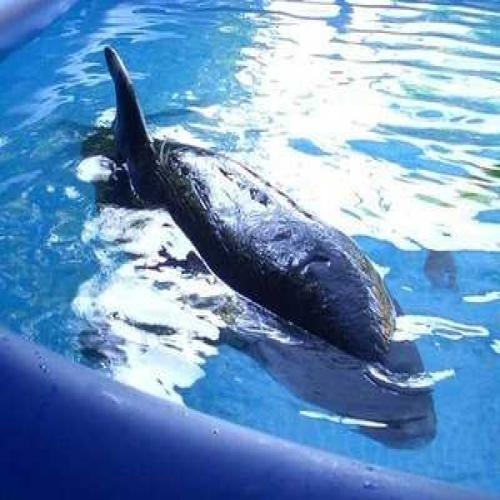killer_whale-endangered: (69, 32, 429, 377)
